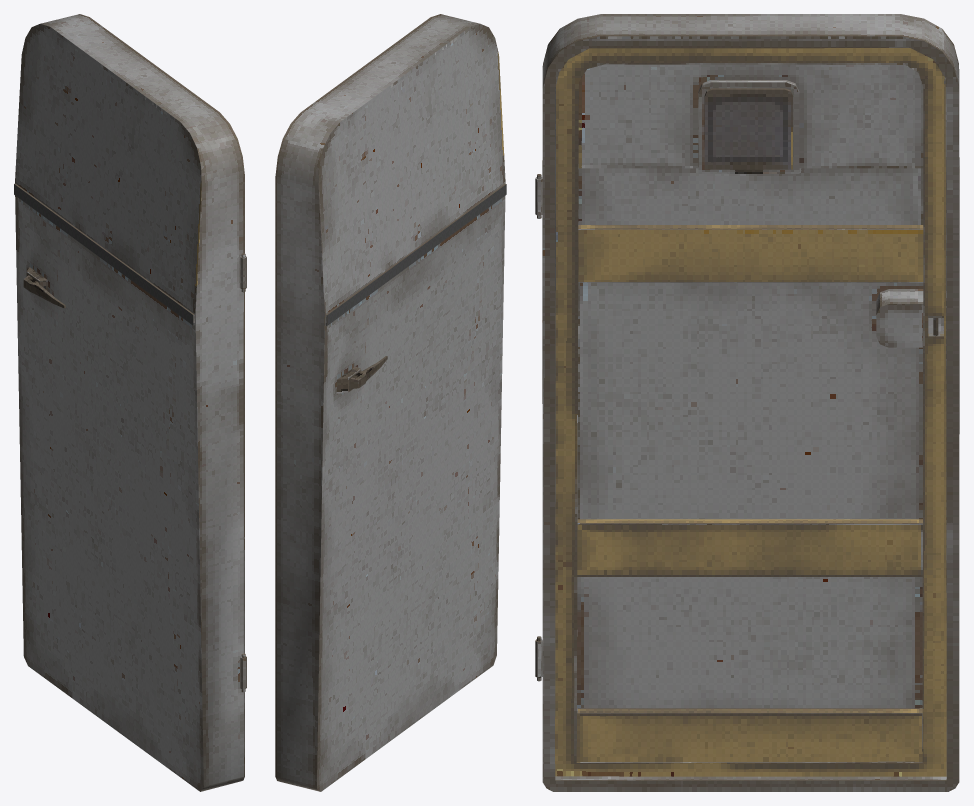
The model's file is Fridge_Door.glb.
The picture shows the model from 3 angles, left to right: view 1: azimuth 30°, elevation 25°; view 2: azimuth 150°, elevation 25°; view 3: azimuth 270°, elevation 25°; orthographic projection. The views are drawn at different scales.
Visible parts, largest first — view 1: Fridge_Door; view 2: Fridge_Door; view 3: Fridge_Door.
Boxes of the visible parts, left/top/right/bottom form: Fridge_Door: left=14, top=14, right=246, bottom=791; Fridge_Door: left=275, top=14, right=506, bottom=791; Fridge_Door: left=535, top=14, right=959, bottom=791.
Size of the model in its own units: 0.1795 by 1.8 by 0.9151.
1 material, 1 textured.
